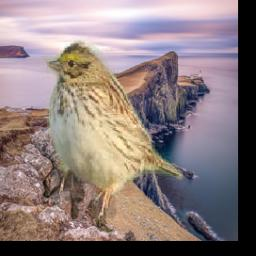Sparrow: (41, 38, 184, 218)
